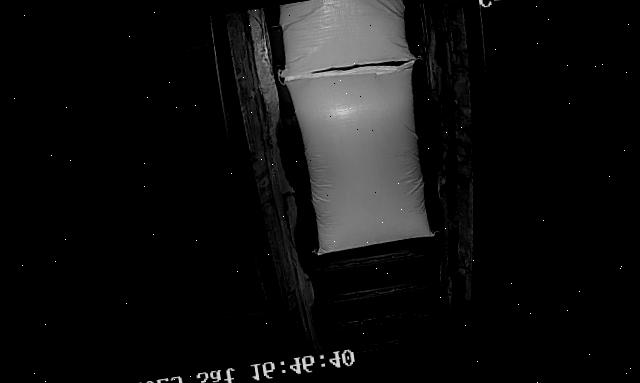bag: (284, 57, 442, 255), (270, 0, 413, 78)
